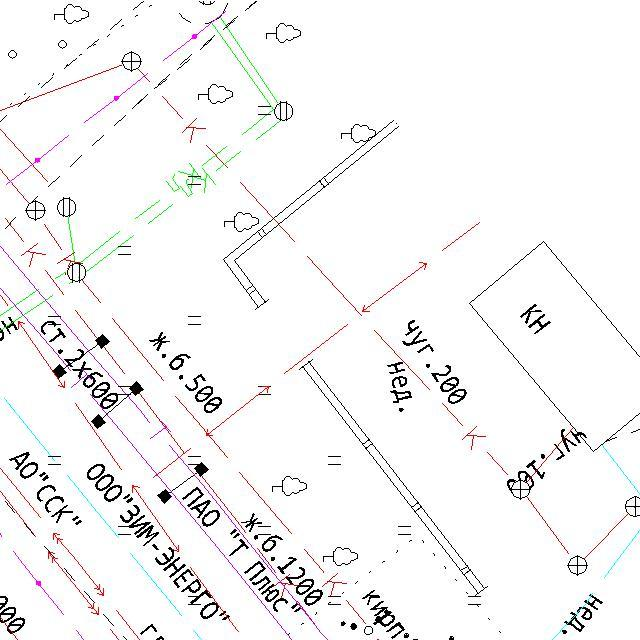tree: (270, 474, 309, 498), (339, 122, 377, 145), (196, 82, 234, 105), (52, 2, 90, 25), (265, 21, 302, 44), (322, 545, 359, 568), (222, 211, 260, 233)
well: (564, 552, 592, 579), (119, 48, 144, 74), (65, 260, 88, 286), (272, 99, 296, 122), (508, 478, 532, 501), (24, 198, 46, 223), (55, 196, 78, 219)
